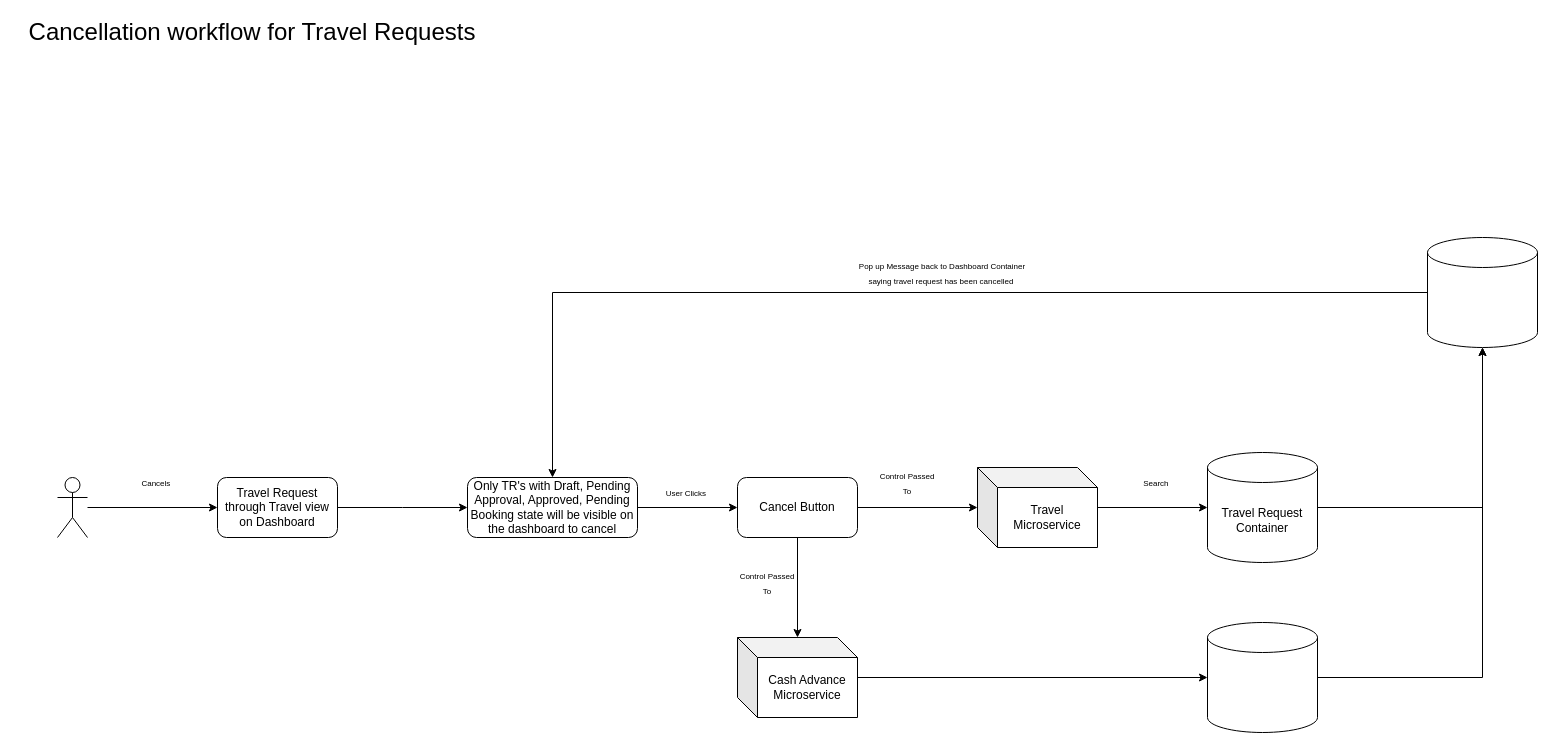
Image size: 1555x750. Some labels were removed from this diagram. Each missing label, with the box of its shape:
Actor: (56, 476, 88, 538)
Cash Advance Container: (1206, 622, 1318, 732)
Update status to Cancelled for both TR and CA respectively: (1426, 236, 1538, 348)
